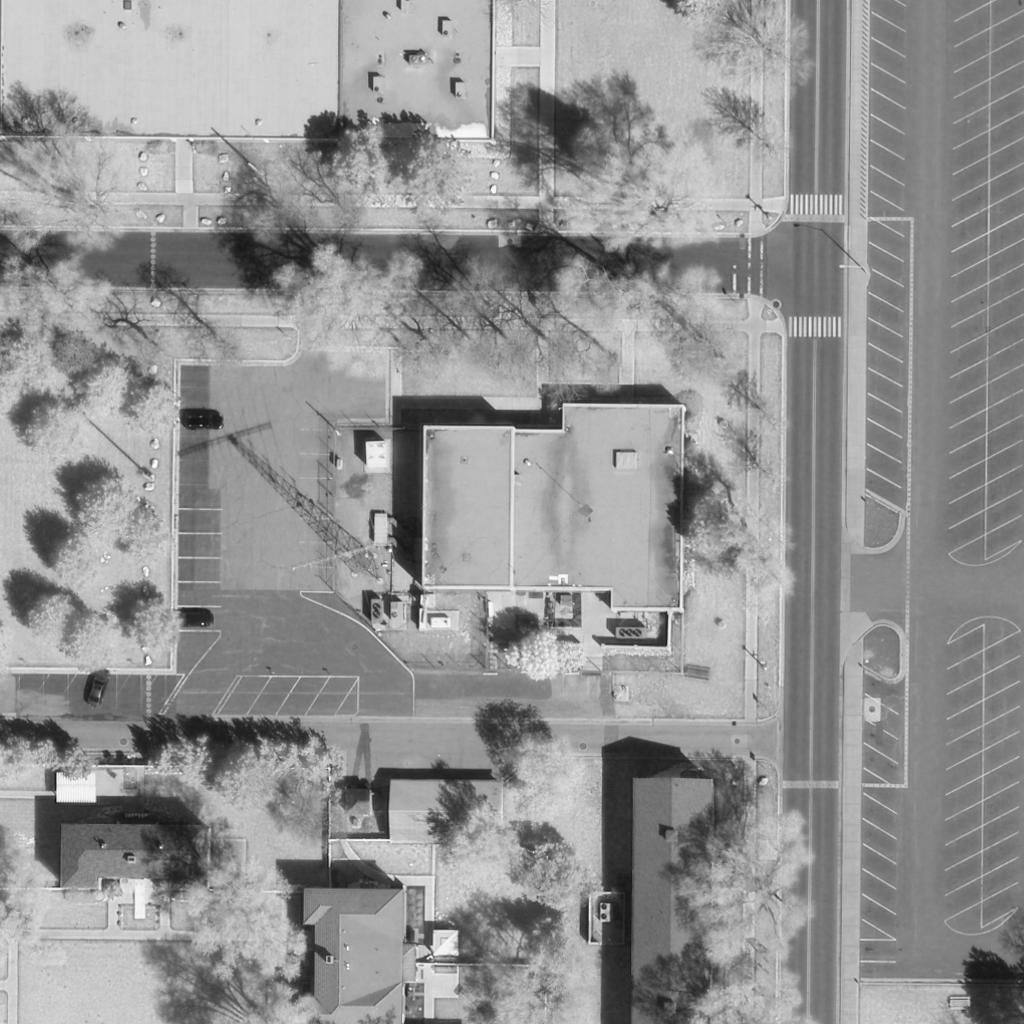vehicle: (83, 669, 115, 709), (170, 608, 218, 628), (181, 413, 225, 431)
